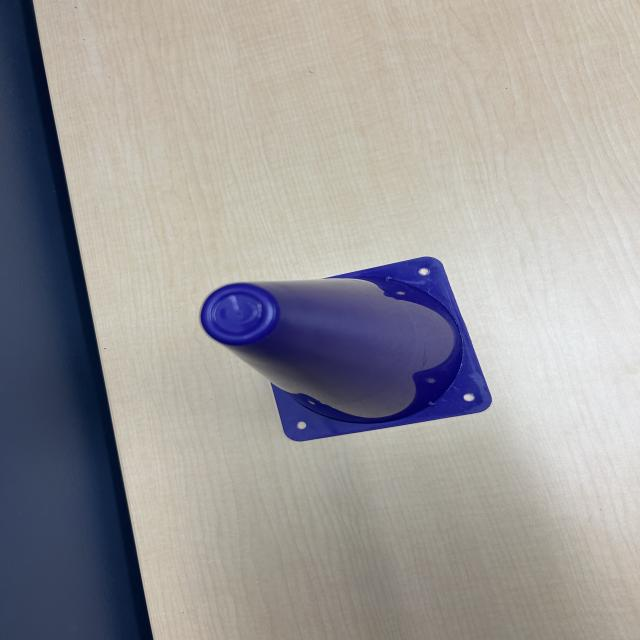purple cone: (198, 253, 518, 445)
